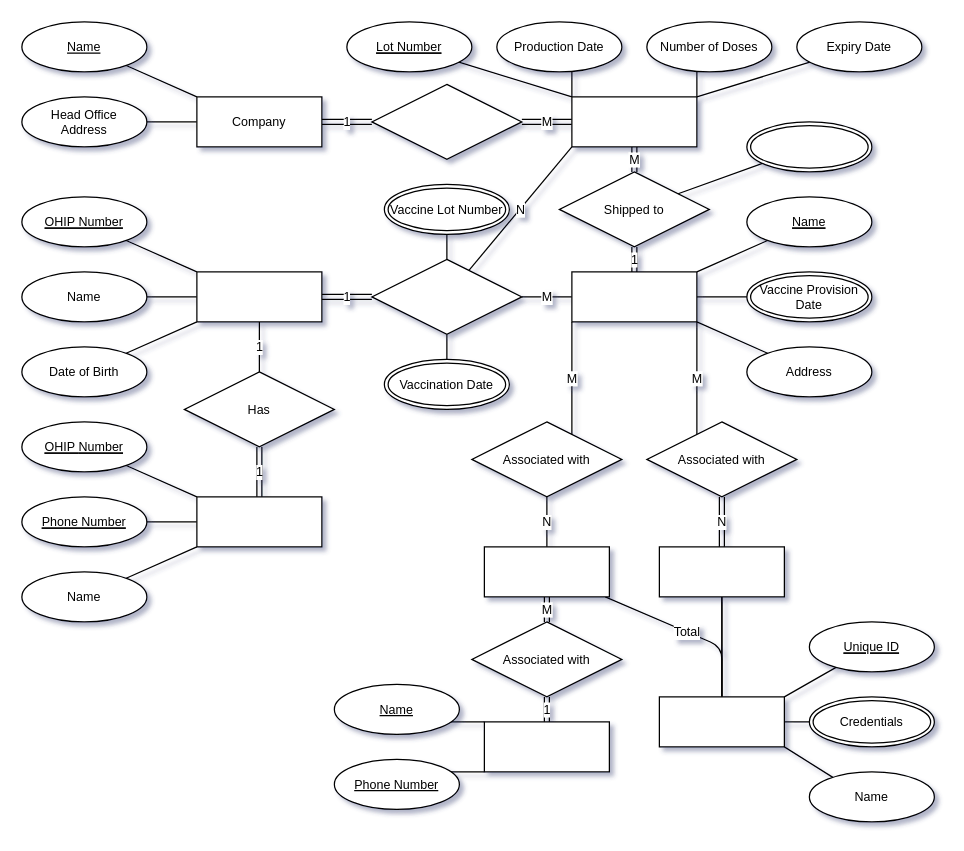
Some shapes in this 964 by 851 pixel diagram are drawn without their labels. Here are the shapes that lost their labels. From the top down, the box of each, then its label:
(371, 83, 522, 159): Produces
(571, 96, 697, 147): Vaccine Lot
(746, 121, 872, 172): Lot Numbers
(196, 271, 322, 322): Patient
(371, 258, 522, 334): Receives Vaccination
(571, 271, 697, 322): Vaccination Site
(196, 496, 322, 547): Spouse
(483, 546, 609, 597): Doctor
(658, 546, 784, 597): Nurse
(658, 696, 784, 747): Healthcare Worker
(483, 721, 609, 772): Medical Practice
